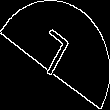L_SW: (32, 25, 78, 85)
